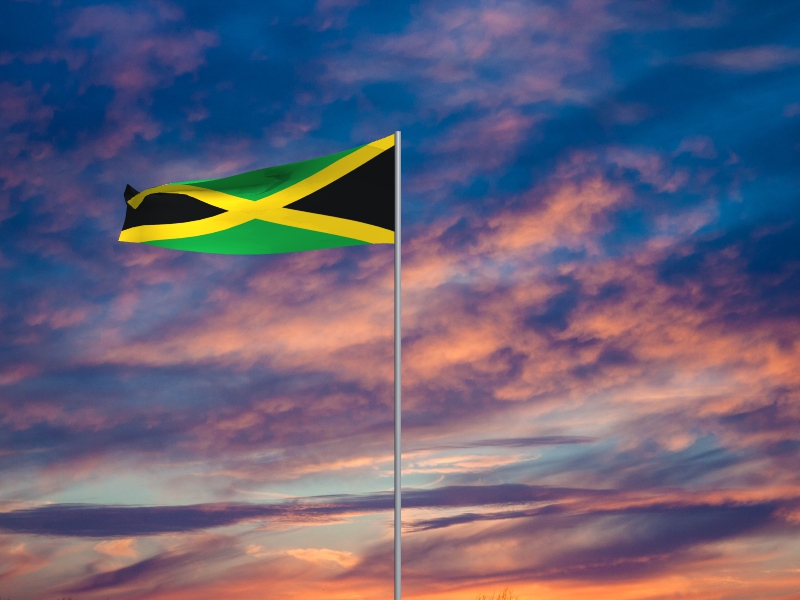jm: (118, 134, 395, 256)
